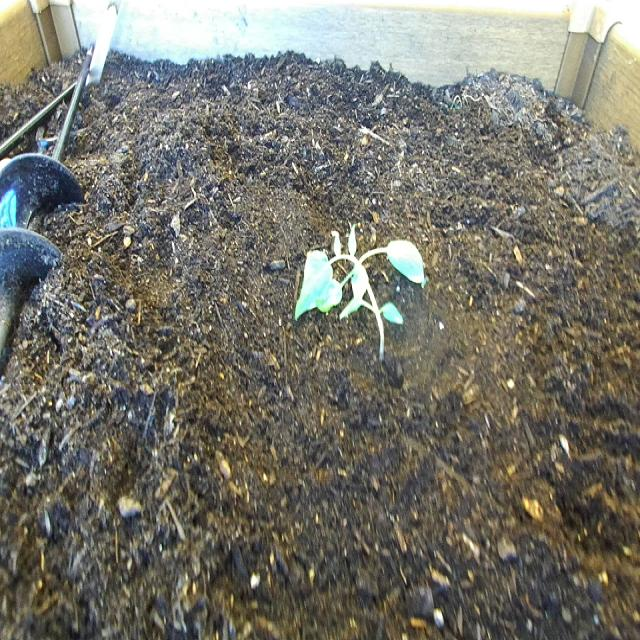Unhealthy: (289, 217, 428, 366)
